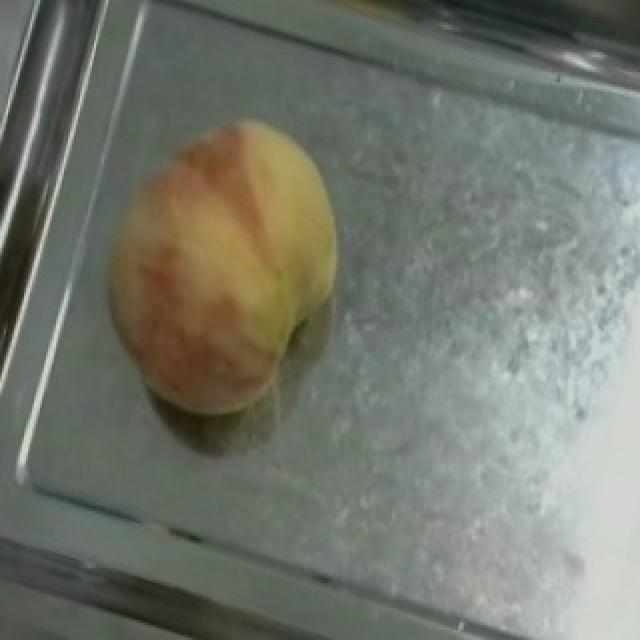Fruit: (60, 87, 388, 459)
